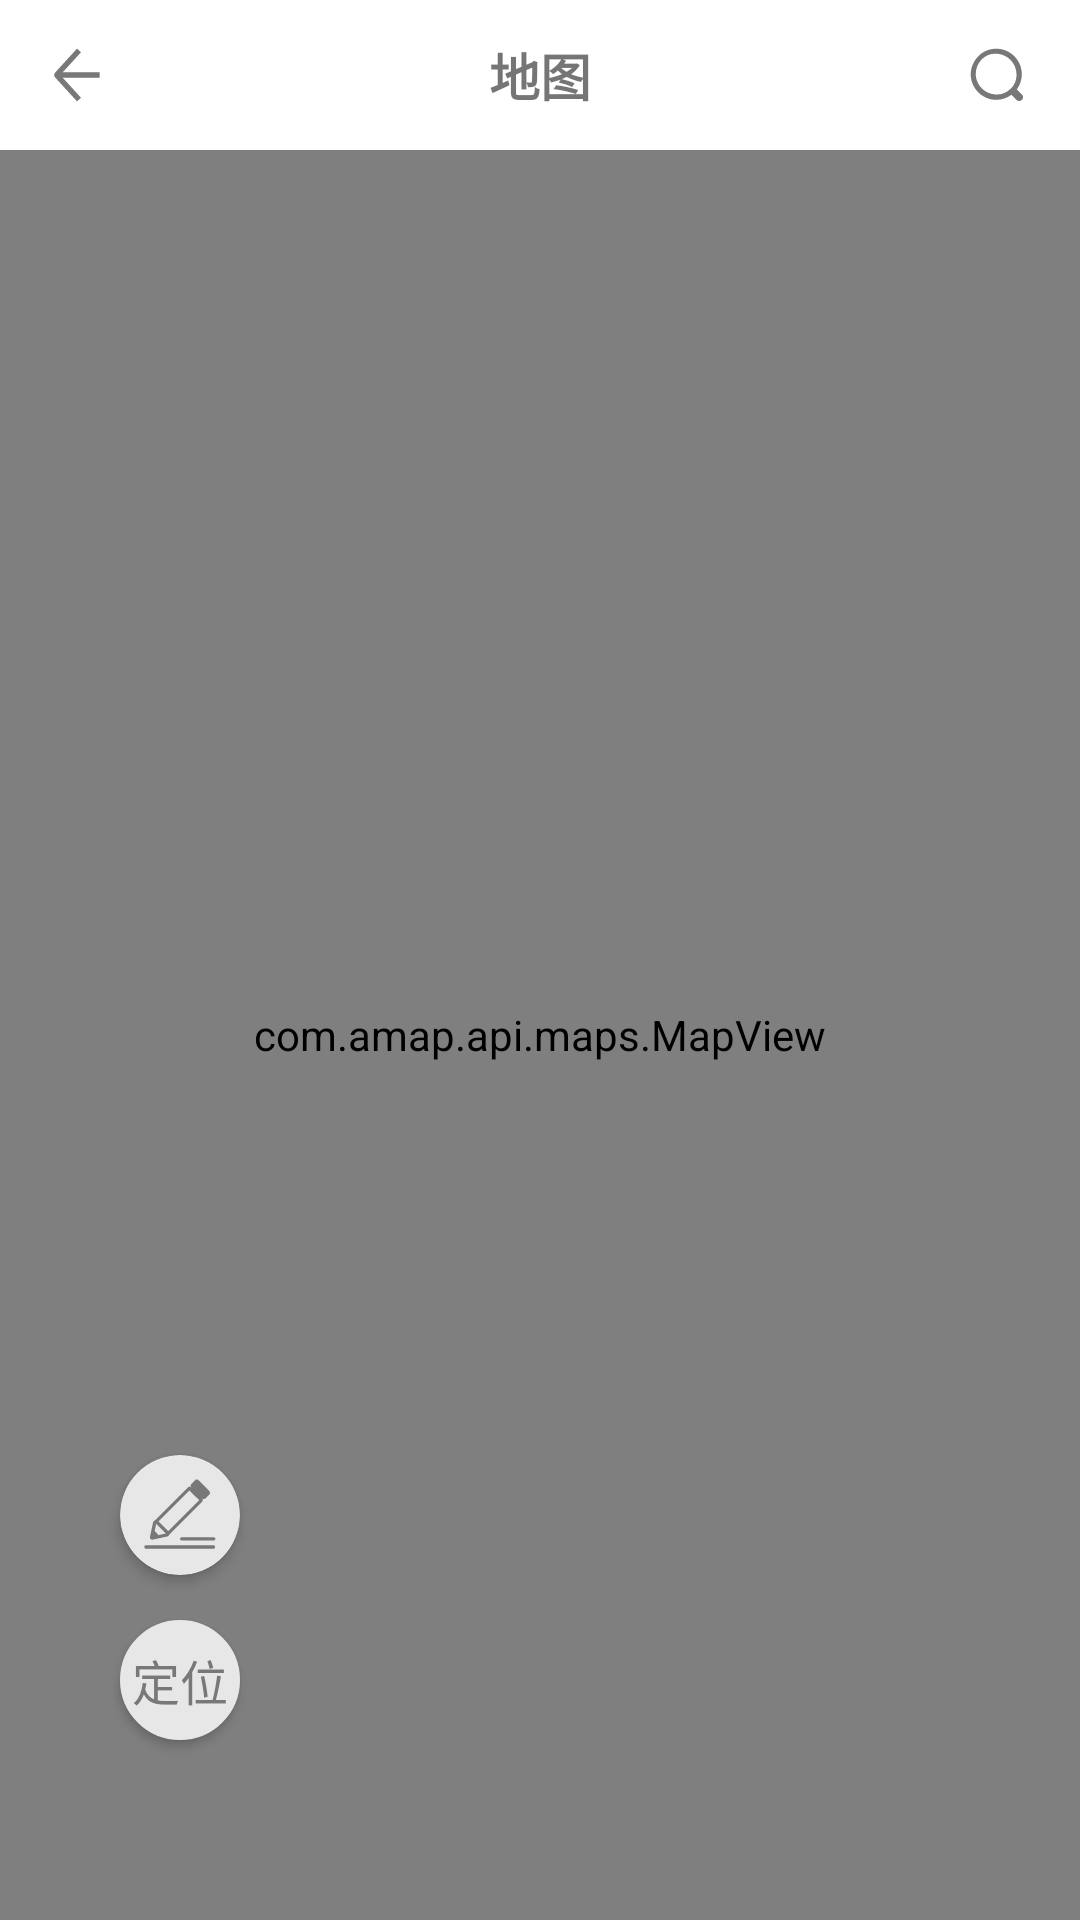

Named icons in this screenshot (1080px×1920px) and their bounding boxes, (x1, y1, x2, y2):
back: (54, 49, 100, 101)
record: (144, 1479, 216, 1549)
search: (970, 48, 1023, 101)
